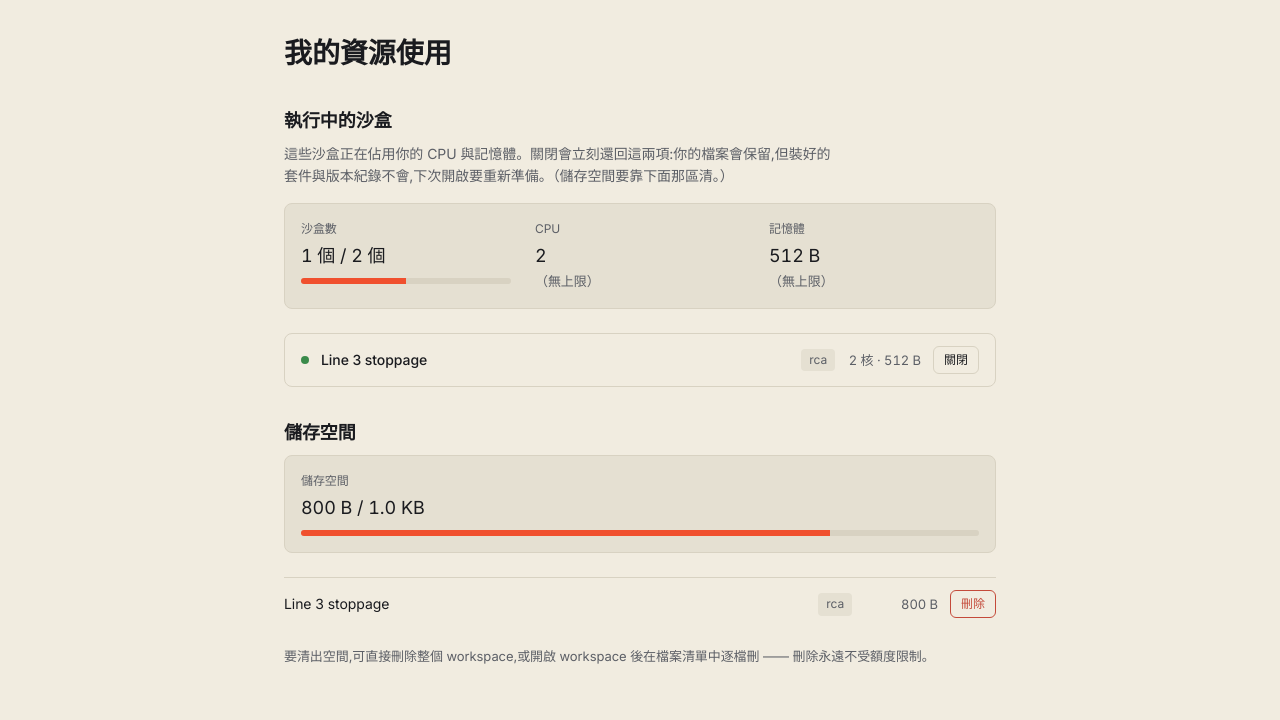
Scenario: MyResourcesPage › cancelling the disk-row delete dialog deletes nothing
Click the button with aria-label "刪除 Line 3 stoppage" at [973, 604], box x1=950 y1=590 x2=996 y2=618
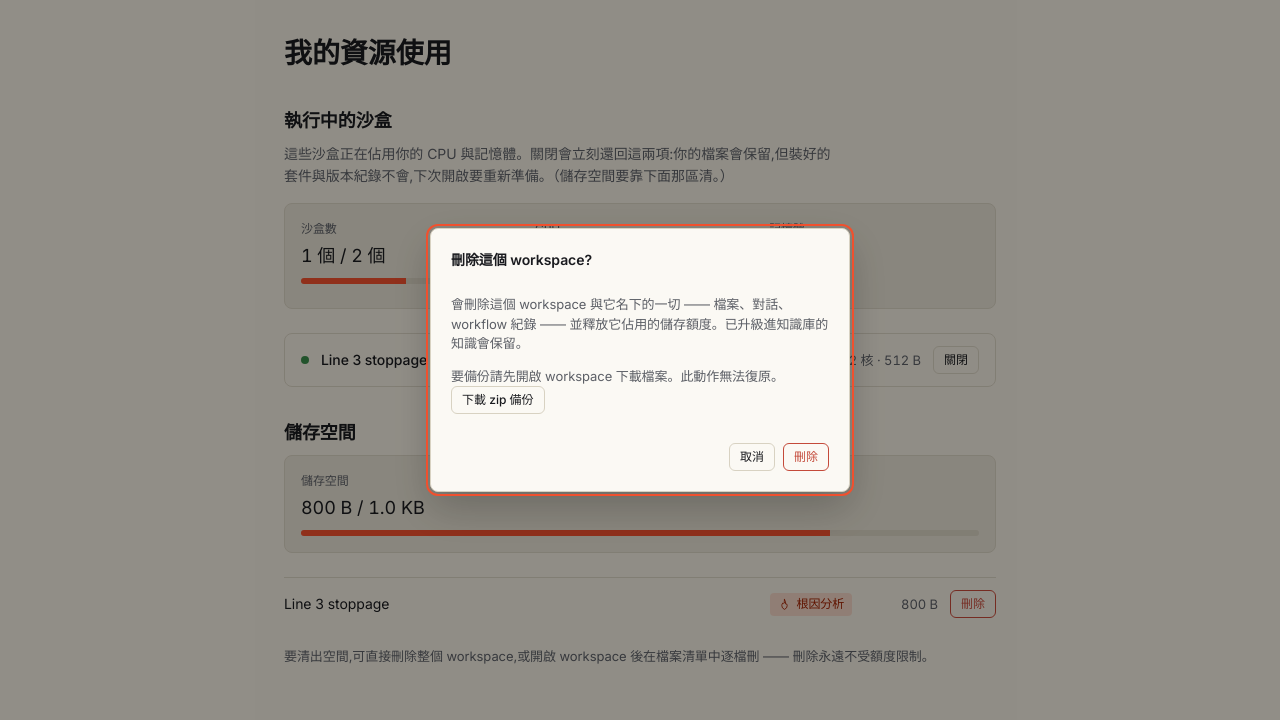
Click the button "取消" at [752, 457], box x1=729 y1=443 x2=775 y2=471
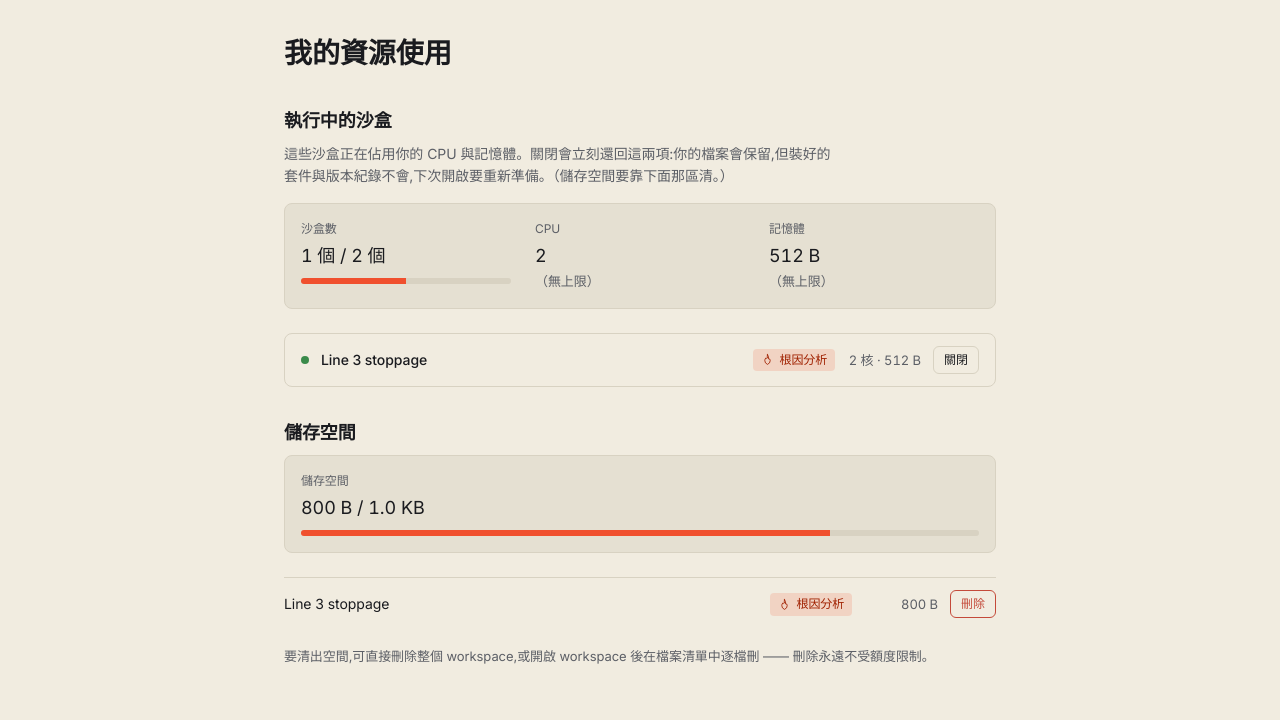
Expected: the dialog is gone
